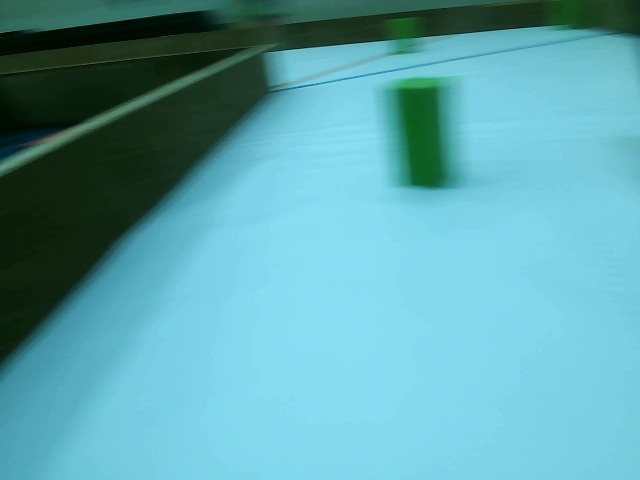green: (392, 68, 453, 188)
